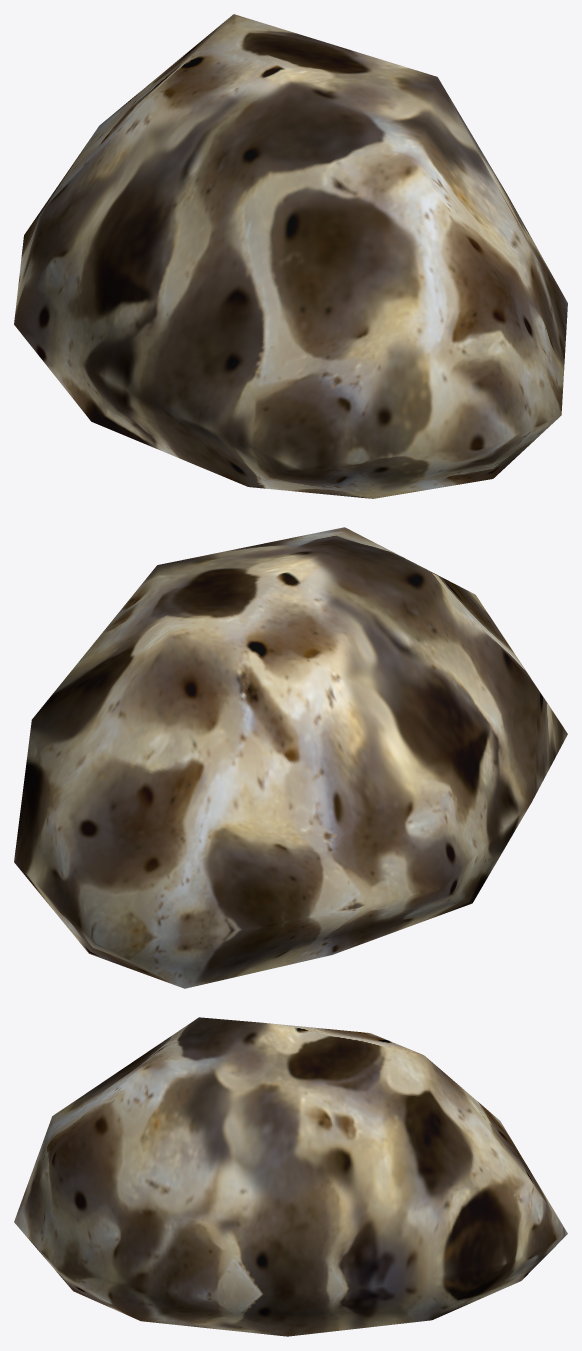
The model's file is Coral02_Mesh.fbx.
3 renders of one model, top to bottom at view 1: azimuth 30°, elevation 25°; view 2: azimuth 150°, elevation 25°; view 3: azimuth 270°, elevation 25°, orthographic. The views are drawn at different scales.
Visible parts, largest first — view 1: Coral02; view 2: Coral02; view 3: Coral02.
Part boxes in pixels (left/top/right/bottom): Coral02: left=14, top=14, right=567, bottom=498; Coral02: left=14, top=527, right=567, bottom=988; Coral02: left=14, top=1017, right=567, bottom=1336.
Bounding box in the file's own units: 18.45 × 13.32 × 26.64.
Materials: 1 (1 with a texture image).
